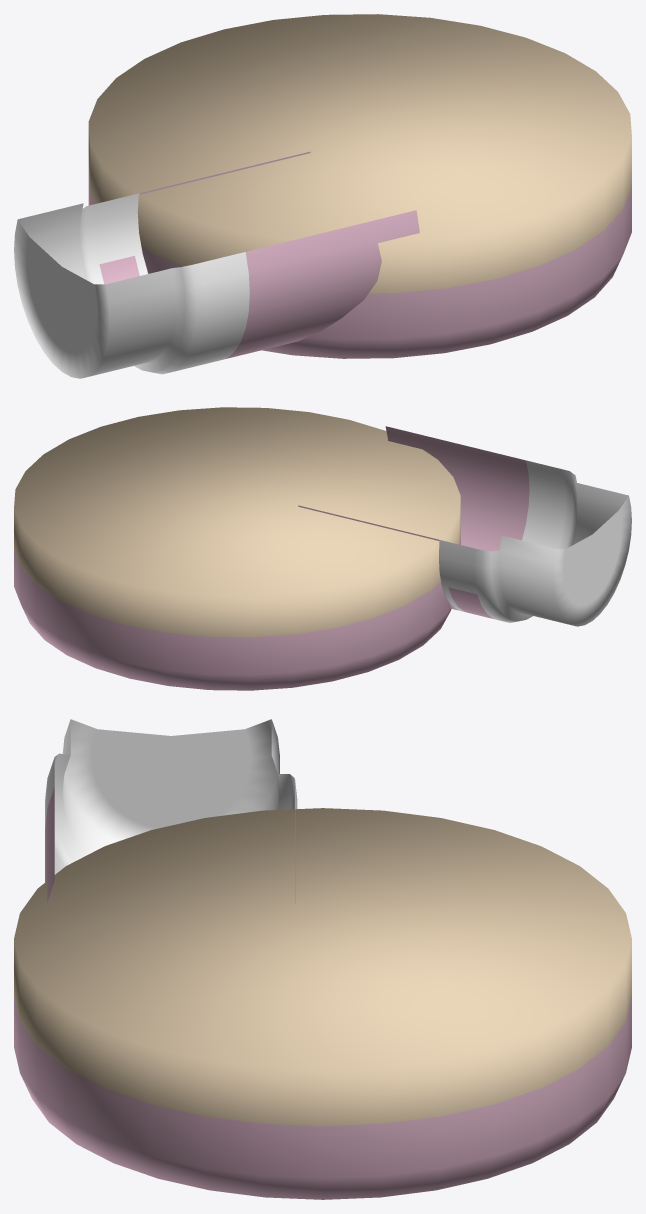
Rendered from razor.glb.
3 renders of one model, top to bottom at view 1: azimuth 30°, elevation 25°; view 2: azimuth 150°, elevation 25°; view 3: azimuth 270°, elevation 25°, orthographic. The views are drawn at different scales.
Visible parts, largest first — view 1: razor; view 2: razor; view 3: razor.
Boxes of the visible parts, left/top/right/bottom form: razor: left=14, top=14, right=631, bottom=378; razor: left=14, top=407, right=631, bottom=690; razor: left=14, top=719, right=631, bottom=1199.
Bounding box in the file's own units: 0.3795 × 0.0906 × 0.2977.
